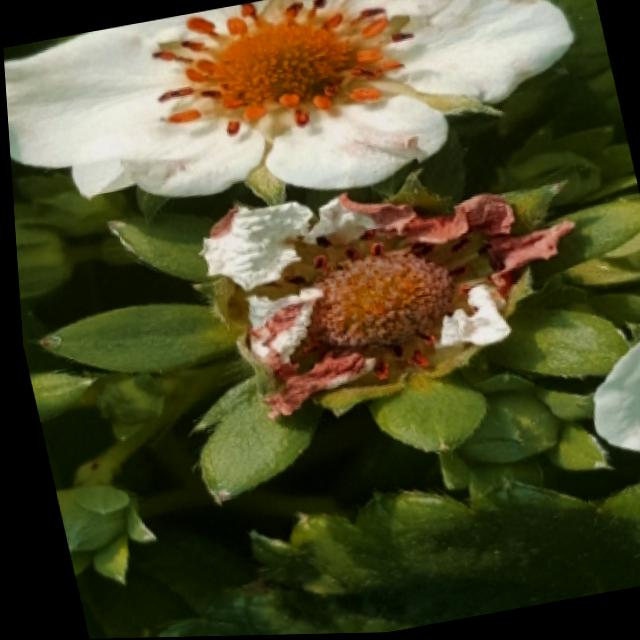Blossom Blight: (266, 219, 509, 391), (147, 0, 420, 141)
